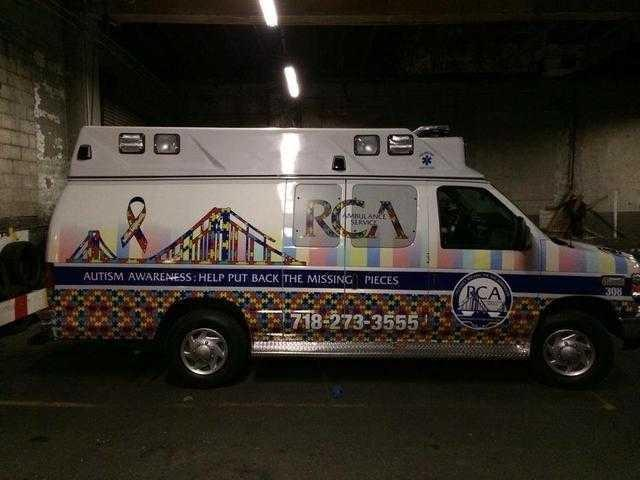car: (4, 123, 639, 389)
